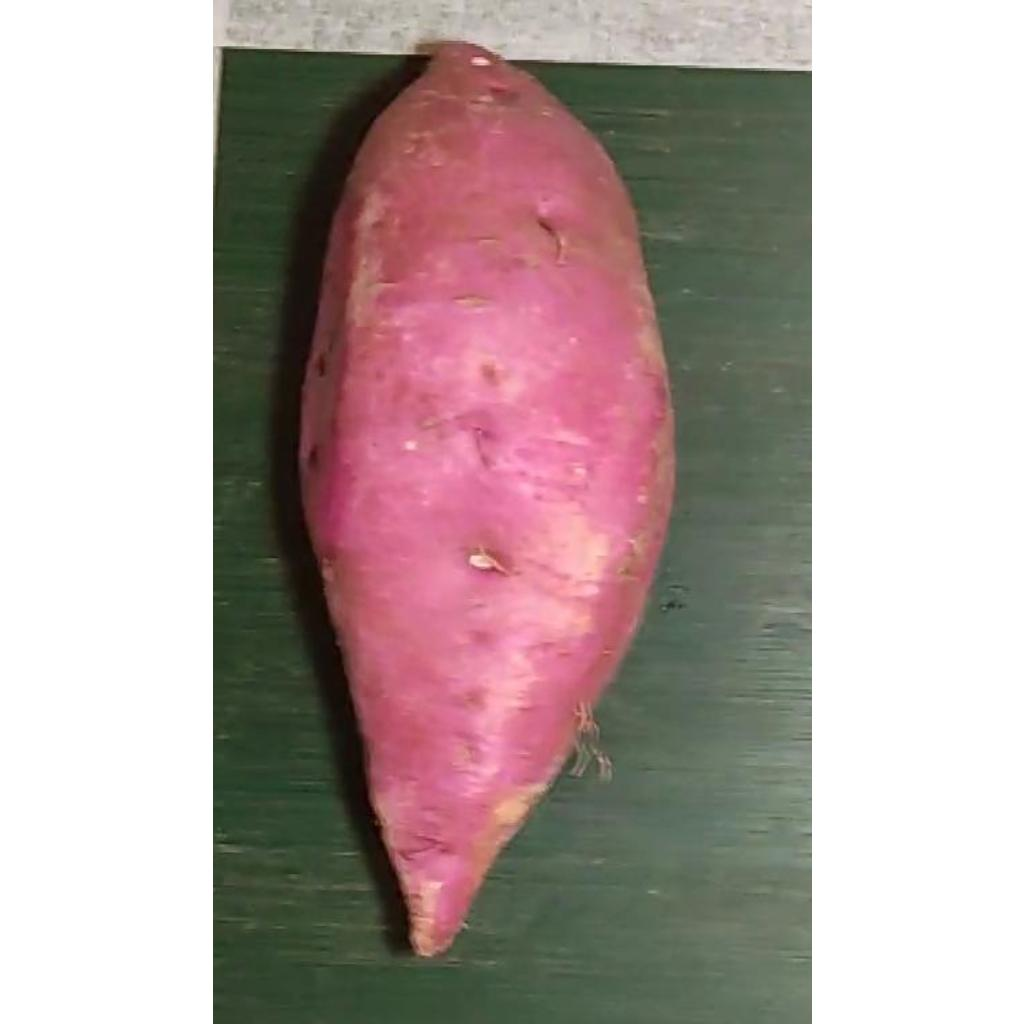Sweet Potato: (295, 42, 674, 961)
